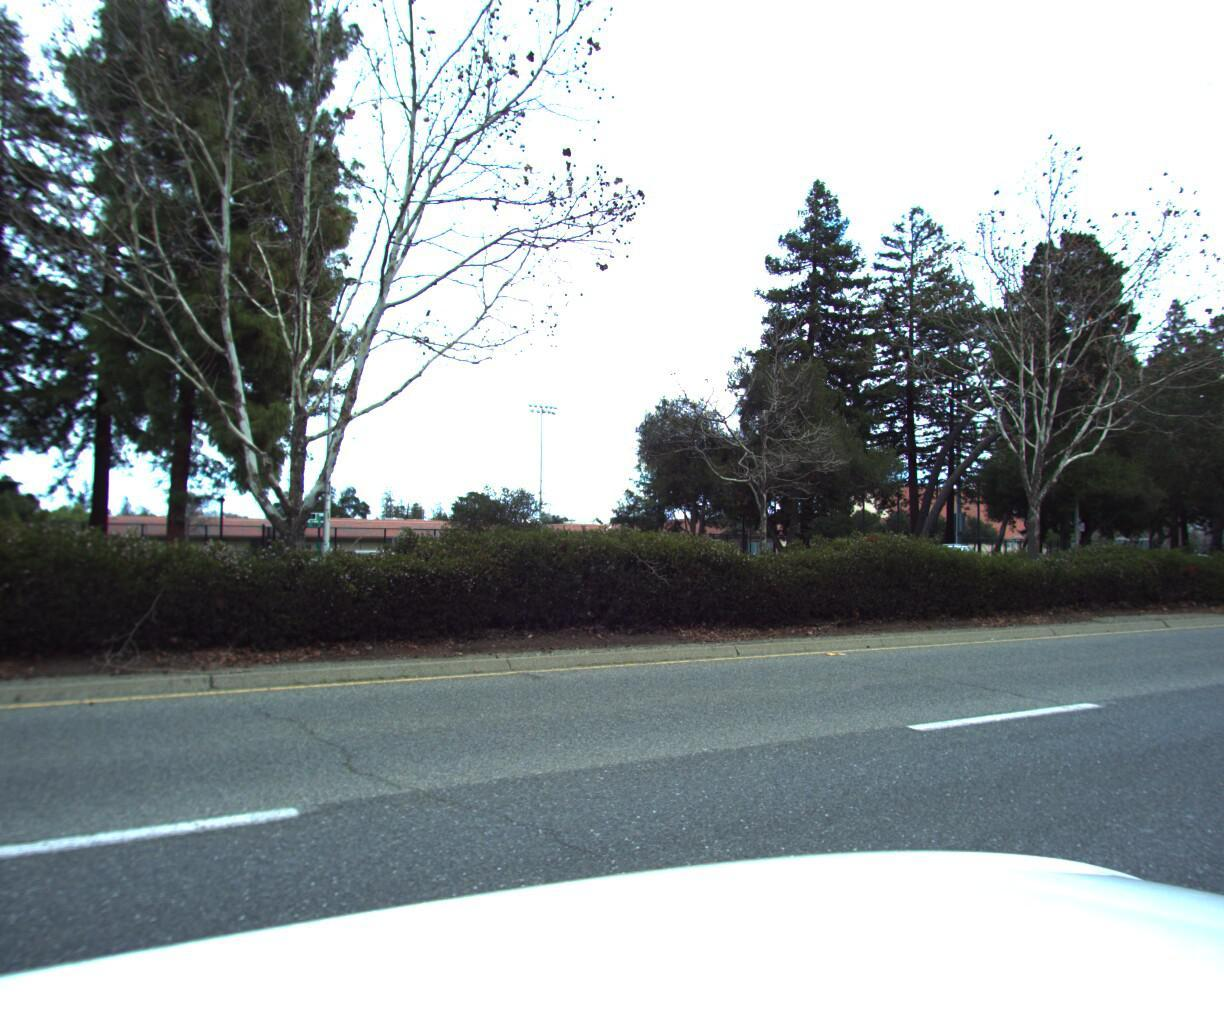car: (872, 537, 978, 584)
